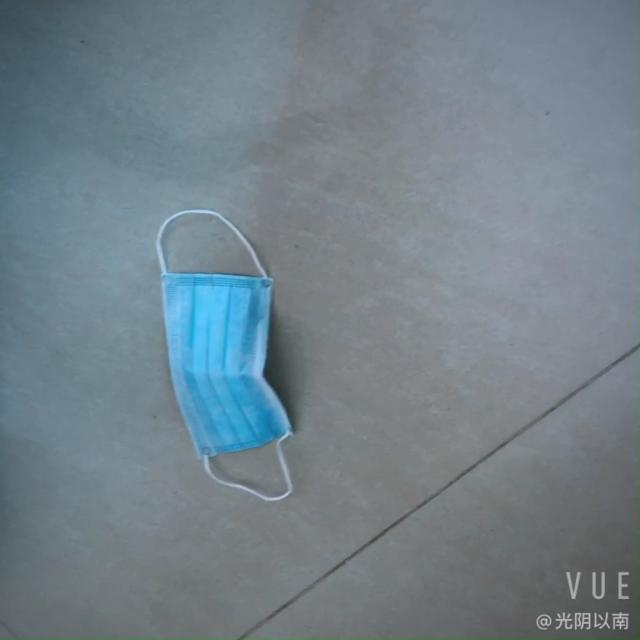non-organic waste: (151, 208, 299, 500)
